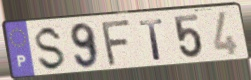4: (212, 9, 240, 59)
5: (171, 14, 205, 61)
9: (68, 20, 100, 71)
F: (101, 18, 134, 68)
S: (34, 24, 68, 73)
T: (138, 17, 166, 62)
